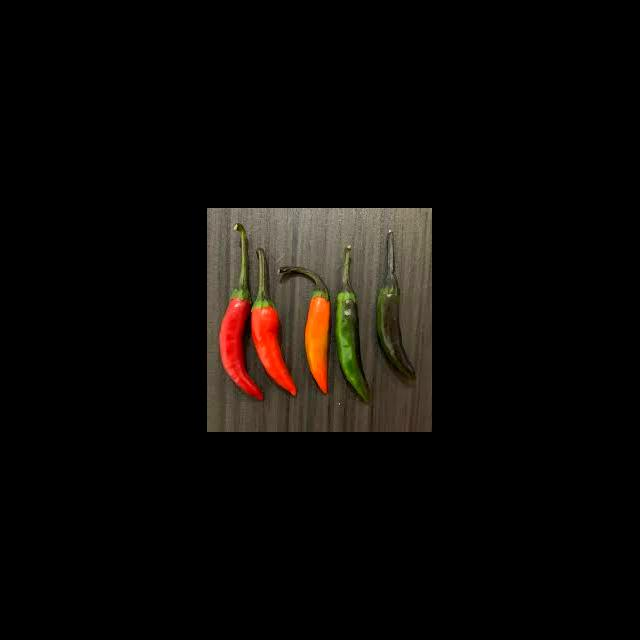chili_pepper: (252, 290, 298, 398), (376, 272, 416, 387), (220, 299, 264, 401), (336, 291, 372, 405), (304, 290, 332, 396)
